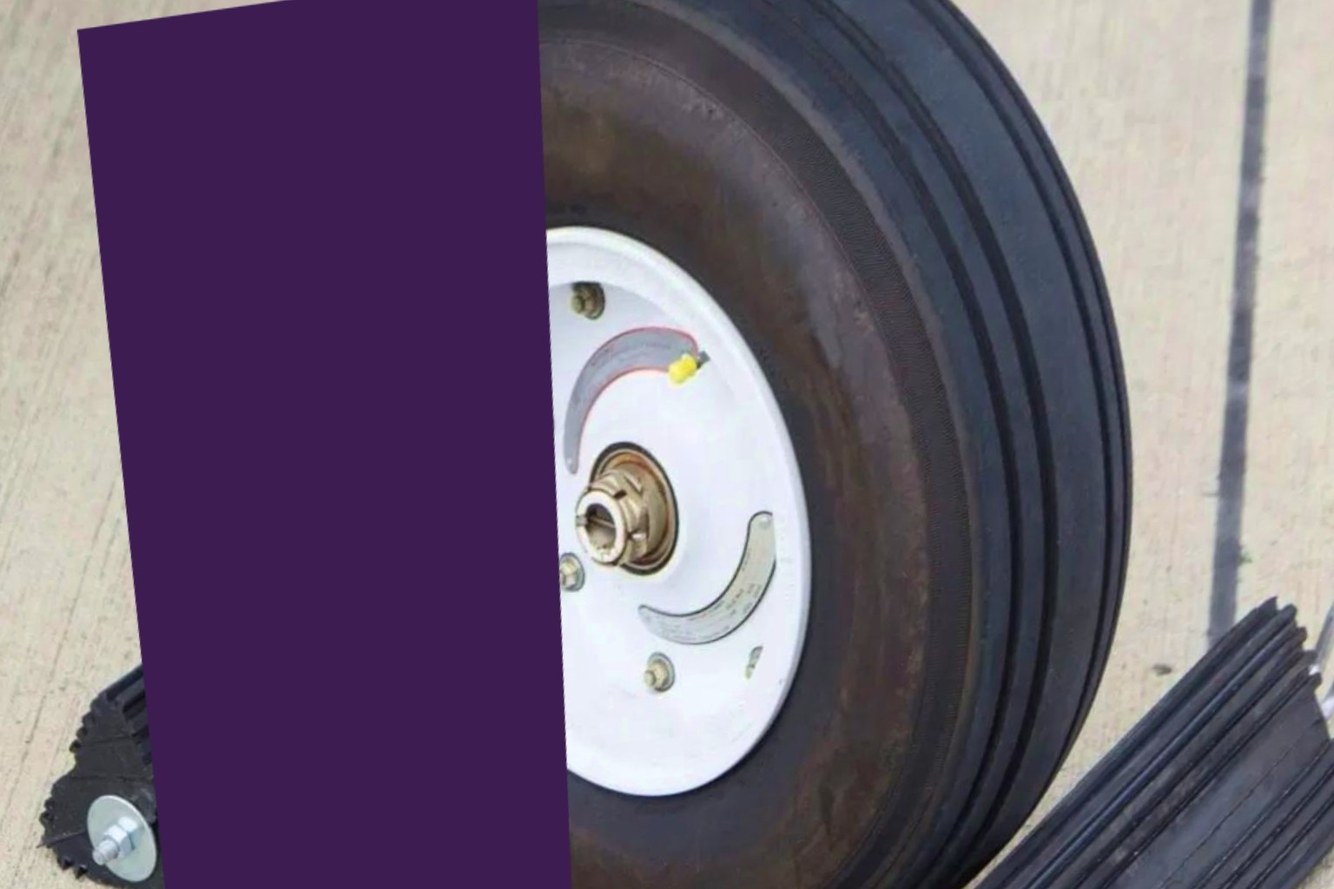chock: (0, 491, 619, 889), (693, 581, 1334, 889)
wheel: (198, 0, 1334, 889)
